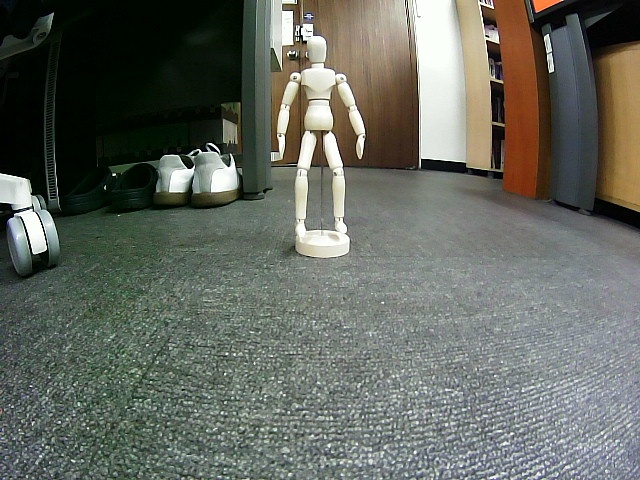person: (276, 35, 366, 239)
